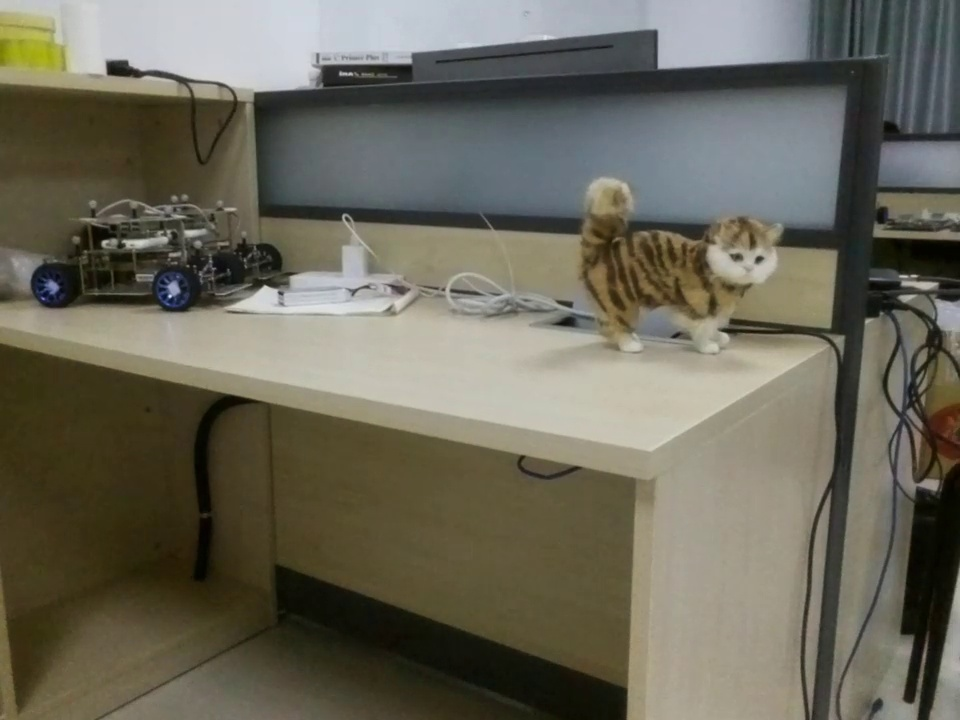cat: (570, 172, 792, 358)
